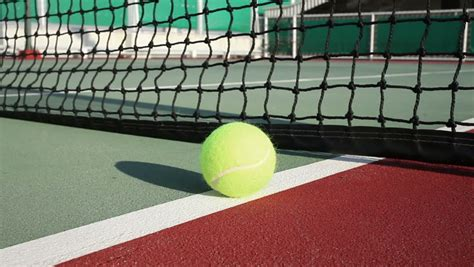tennis_ball: (199, 121, 277, 198)
